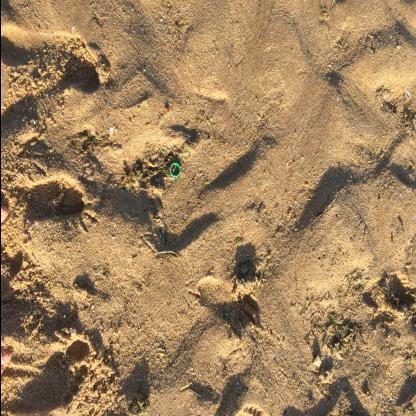plastik: (170, 164, 181, 179)
